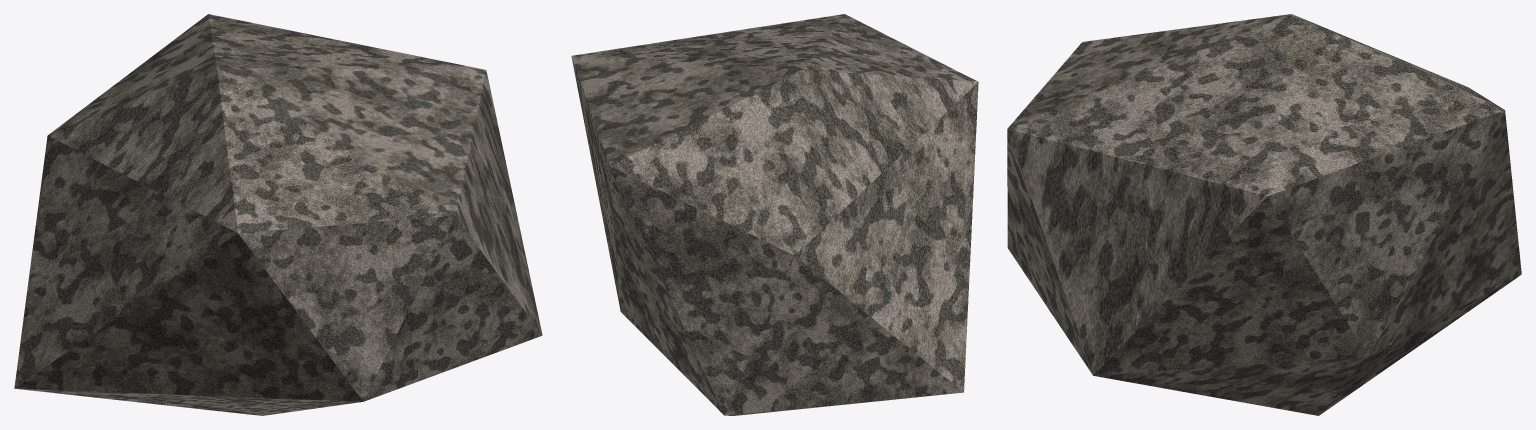
File: rock_small.glb
The picture shows the model from 3 angles, left to right: view 1: azimuth 30°, elevation 25°; view 2: azimuth 150°, elevation 25°; view 3: azimuth 270°, elevation 25°; orthographic projection. The views are drawn at different scales.
Parts seen in each view (by area): view 1: RockSmall; view 2: RockSmall; view 3: RockSmall.
Part boxes in pixels (x1,y1,x2,y2): RockSmall: [14, 14, 542, 415]; RockSmall: [571, 14, 978, 415]; RockSmall: [1007, 14, 1521, 415].
Bounding box in the file's own units: 1 × 0.8 × 1.
Materials: 1 (1 with a texture image).
